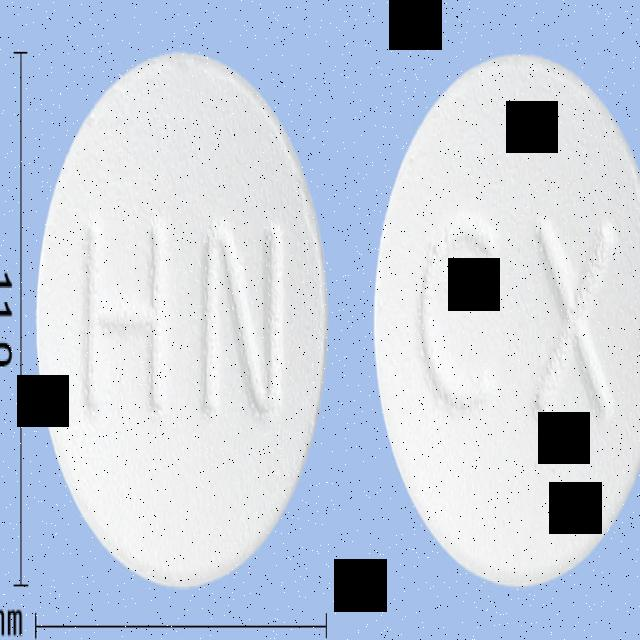Cipron: (32, 48, 332, 593), (369, 49, 640, 596)
